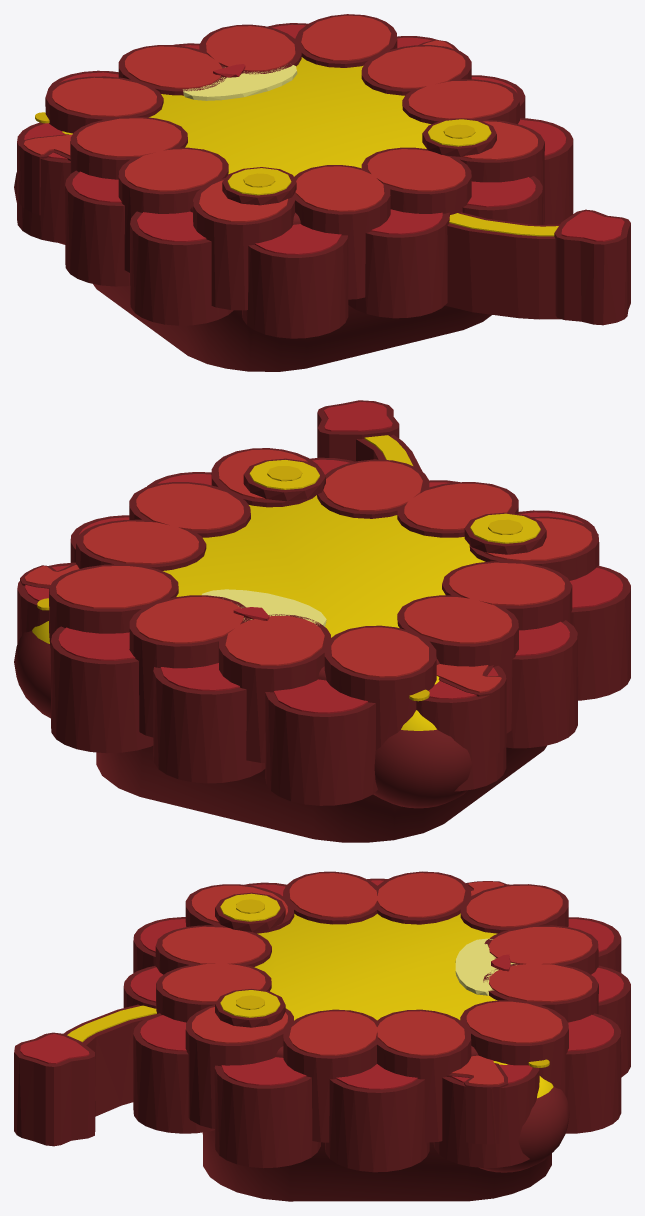
The model's file is body_leao.fbx.
3 renders of one model, top to bottom at view 1: azimuth 30°, elevation 25°; view 2: azimuth 150°, elevation 25°; view 3: azimuth 270°, elevation 25°, orthographic. The views are drawn at different scales.
Visible parts, largest first — view 1: body_leao_corpo, body_leao_mao_esq; view 2: body_leao_corpo, body_leao_mao_esq, body_leao_mao; view 3: body_leao_corpo, body_leao_mao.
Part boxes in pixels (<box>): body_leao_corpo: <box>17,14,630,371</box>; body_leao_mao_esq: <box>14,112,72,244</box>; body_leao_corpo: <box>17,400,630,842</box>; body_leao_mao_esq: <box>373,664,506,808</box>; body_leao_mao: <box>14,563,79,718</box>; body_leao_corpo: <box>14,871,630,1201</box>; body_leao_mao: <box>446,1055,569,1172</box>.
Bounding box in the file's own units: 5.8 × 2.19 × 7.05.
1 material, 1 textured.
